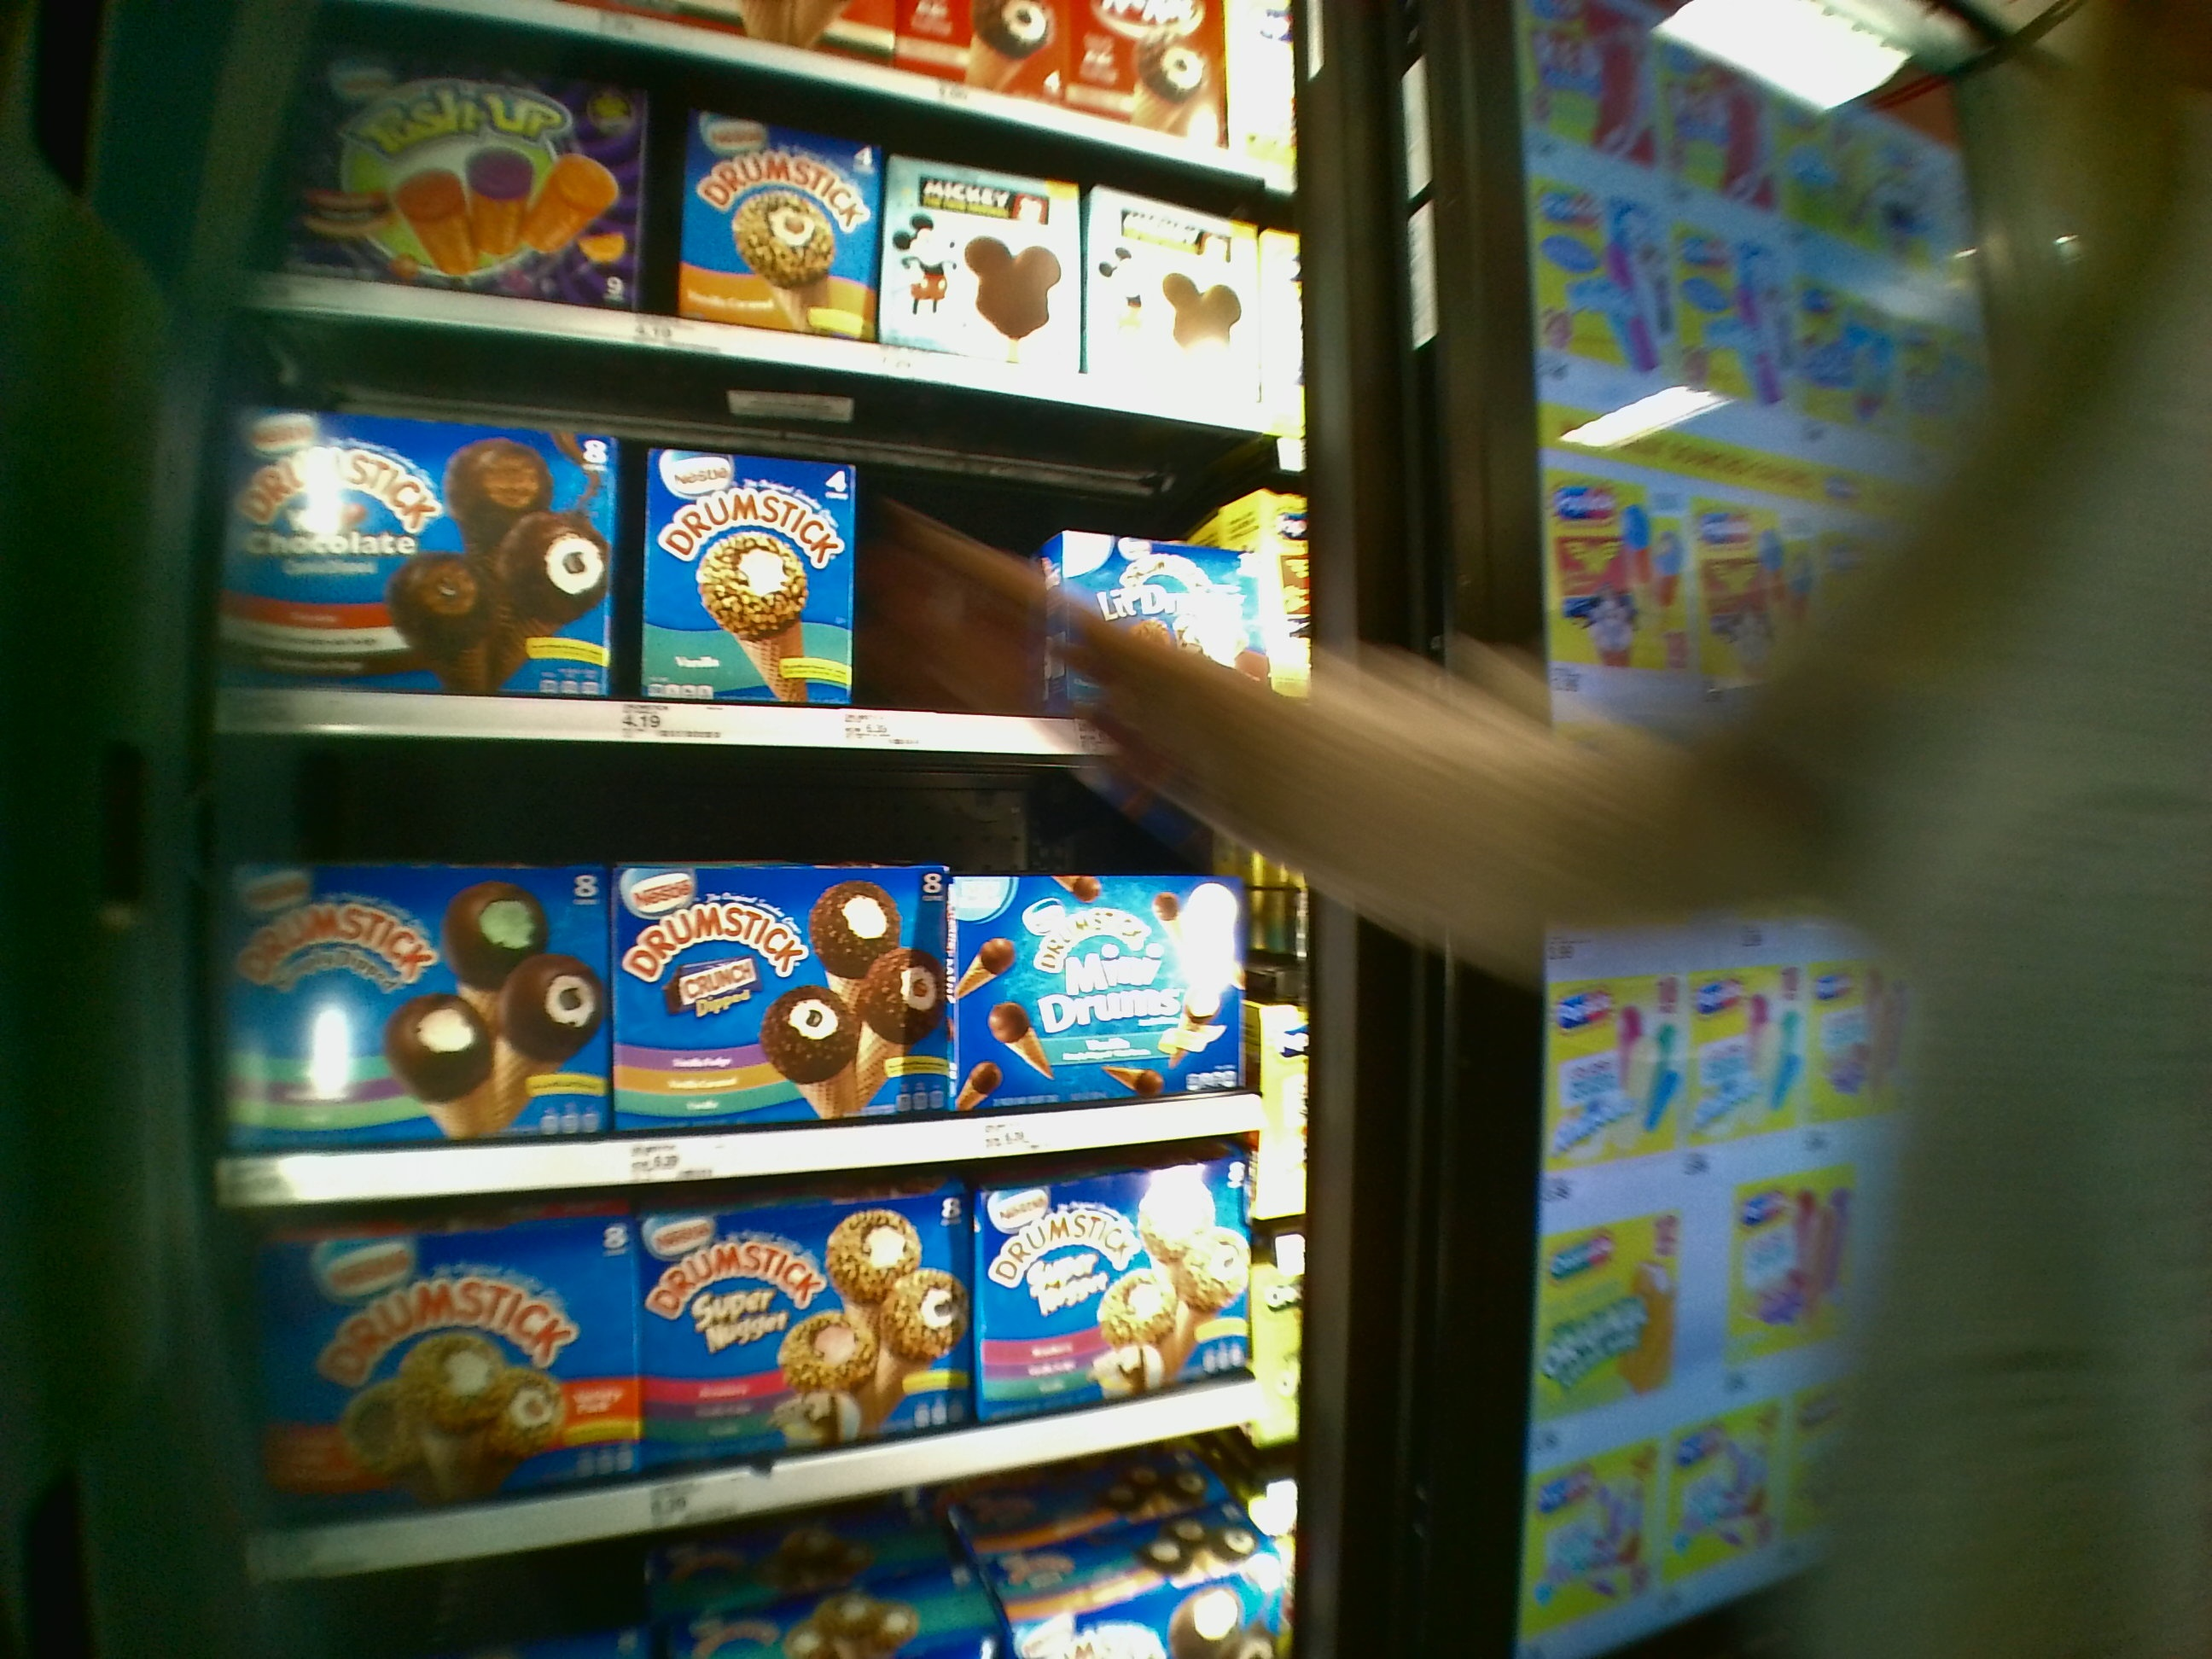shelf: (221, 749, 1291, 1194), (232, 401, 1301, 760), (232, 1188, 1301, 1544)
